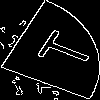T: (24, 25, 98, 73)
